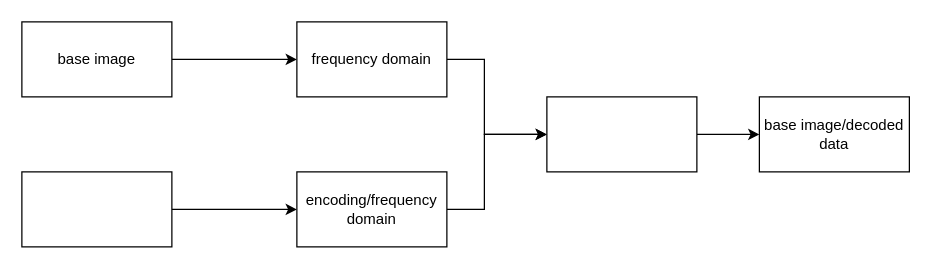
The diagram is 931 pixels wide and 269 high, and some of its shapes have lost their labels. Here are the shapes that lost their labels. From the top down, the centre of each, then its label:
the point at 621,134: output image
the point at 96,209: secret data
